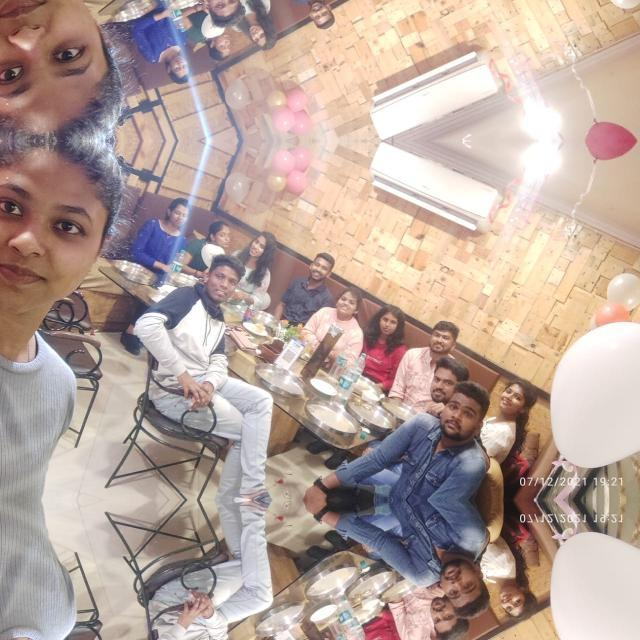person: (0, 140, 132, 500), (159, 258, 281, 492), (0, 499, 132, 640), (0, 0, 132, 140), (159, 507, 281, 640), (385, 382, 493, 500), (385, 499, 493, 616), (134, 175, 196, 261), (134, 19, 196, 105), (314, 281, 370, 371), (479, 375, 535, 449), (479, 550, 535, 624), (289, 242, 337, 310), (369, 302, 407, 382), (415, 313, 463, 367), (159, 0, 281, 21), (242, 226, 276, 300), (241, 0, 276, 54), (289, 0, 337, 37), (202, 216, 232, 268), (202, 12, 232, 64), (369, 617, 407, 640), (314, 628, 369, 640), (415, 632, 463, 640)
